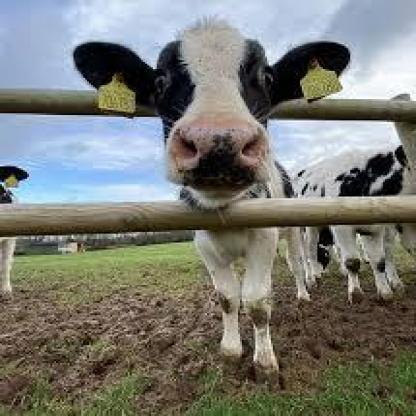cow: (69, 29, 351, 380), (292, 145, 416, 299), (1, 165, 28, 294)
